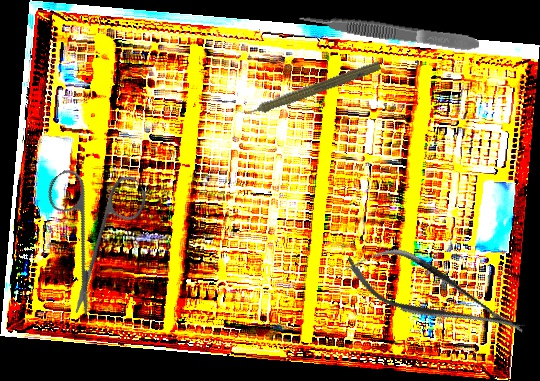Handpiece: (232, 55, 383, 125)
Iris Scissors: (3, 139, 183, 319)
Micro Scissor: (337, 231, 534, 358)
Tissue Forceps: (297, 7, 481, 55)
